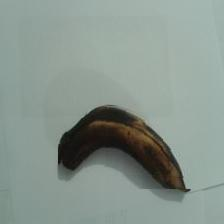Banana Rotten: (59, 104, 203, 190)
